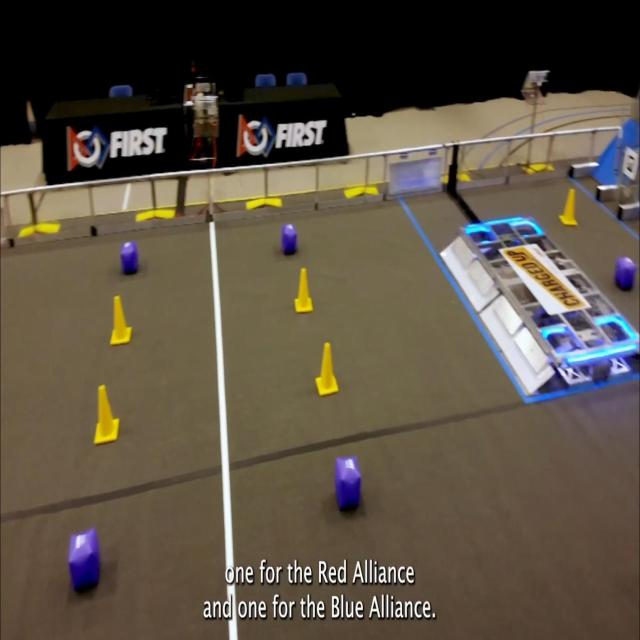frc_cone: (94, 385, 120, 444), (315, 343, 339, 396), (110, 294, 131, 344), (295, 268, 313, 312), (559, 188, 578, 226)
frc_cube: (68, 530, 100, 592), (334, 457, 362, 513), (616, 256, 635, 292), (120, 241, 138, 273), (281, 222, 298, 255)
